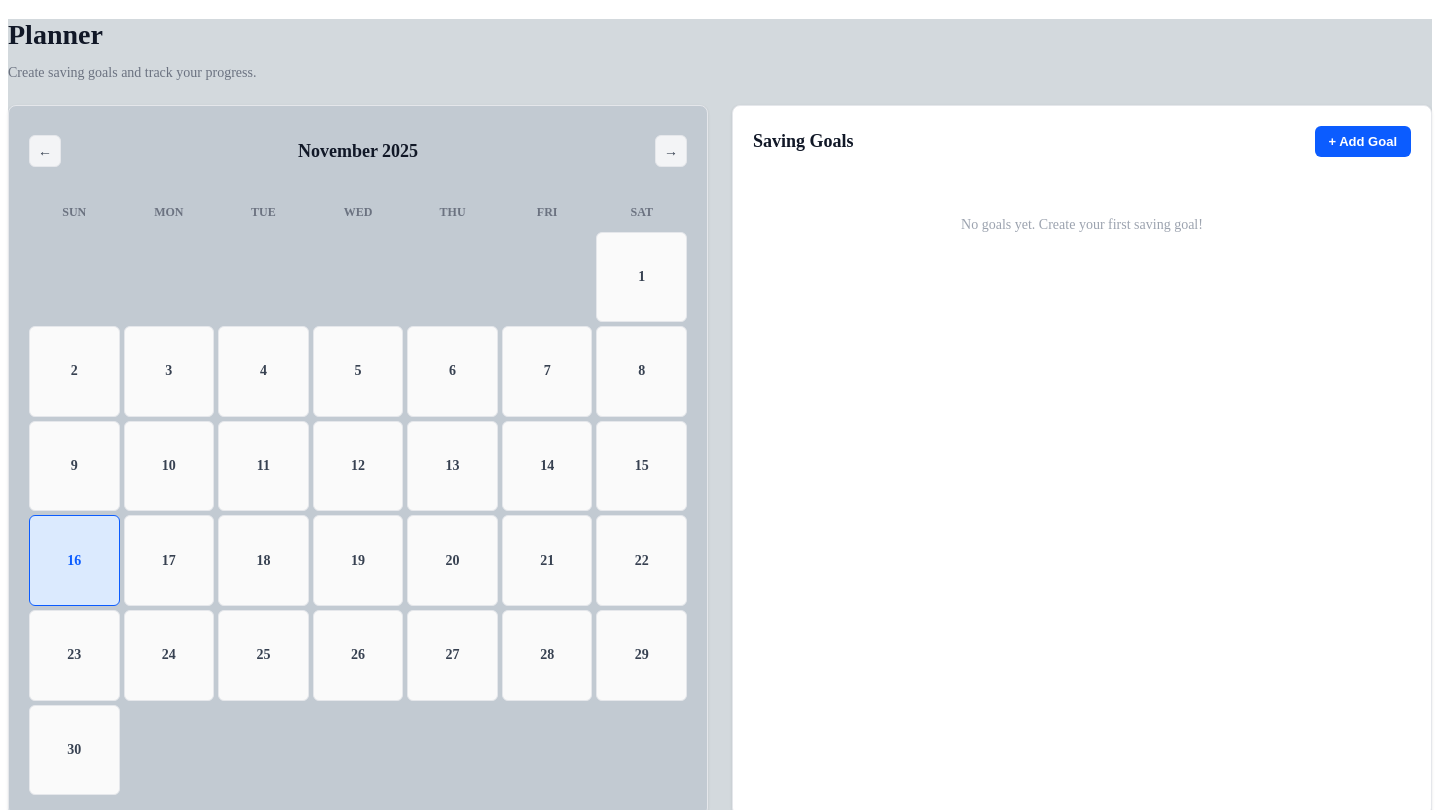
Scenario: FT13 - Planner Component Tests › Create New Saving Goals › should open a modal when "Add Goal" button is clicked
The width and height of the screenshot is (1440, 810).
Click the button "+ Add Goal": coordinates (1363, 141) [1314,126,1411,157]
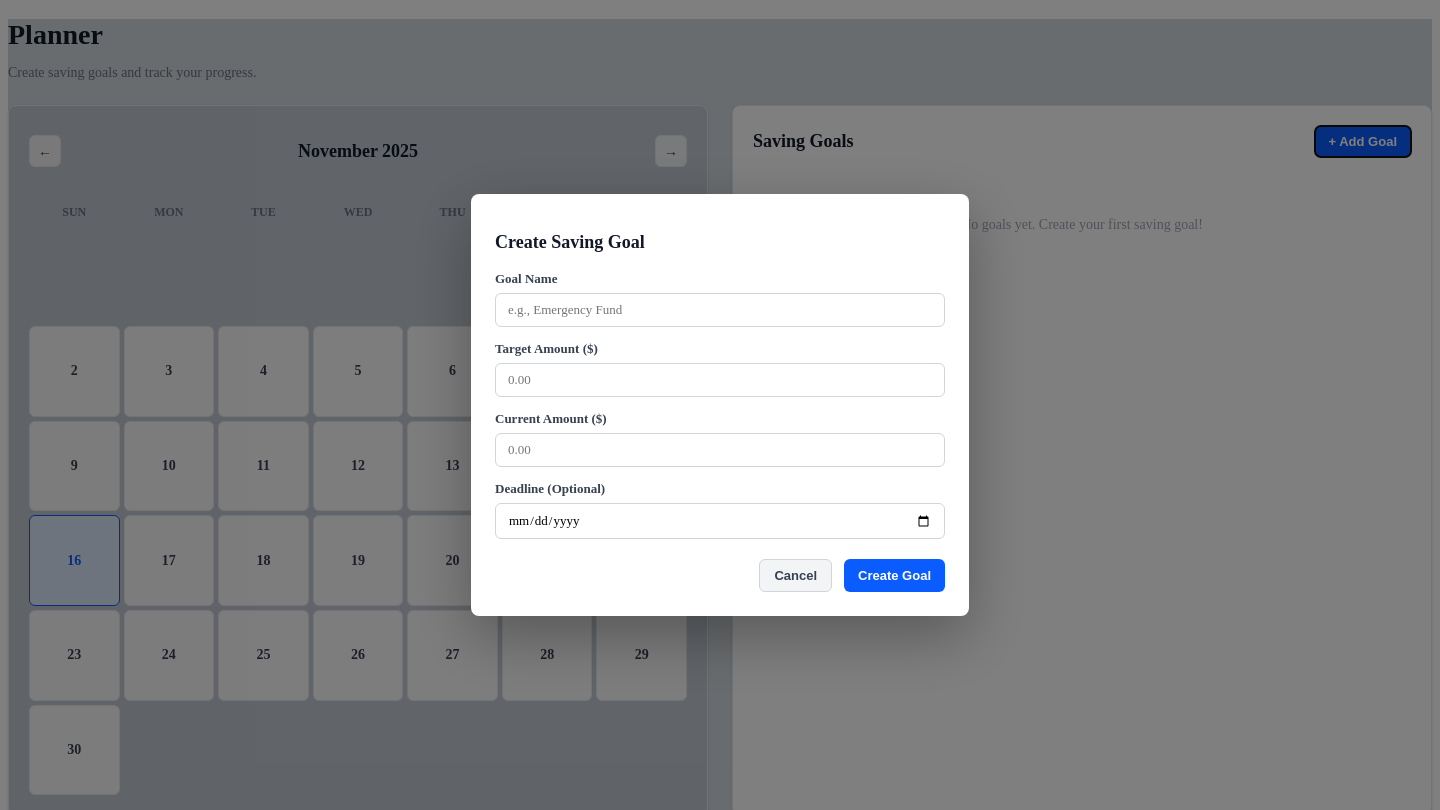
Check: the heading "Create Saving Goal" is shown, box [495,232,645,252]
